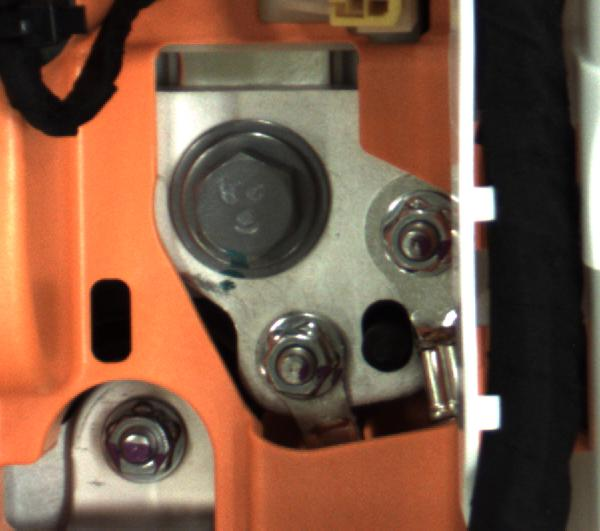nut_b: (166, 143, 334, 280)
screw_s: (240, 319, 340, 409), (378, 190, 461, 282), (95, 398, 175, 483)
